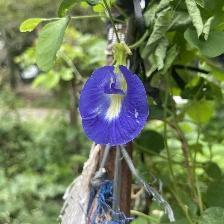shankupushpam: (77, 60, 153, 151)
